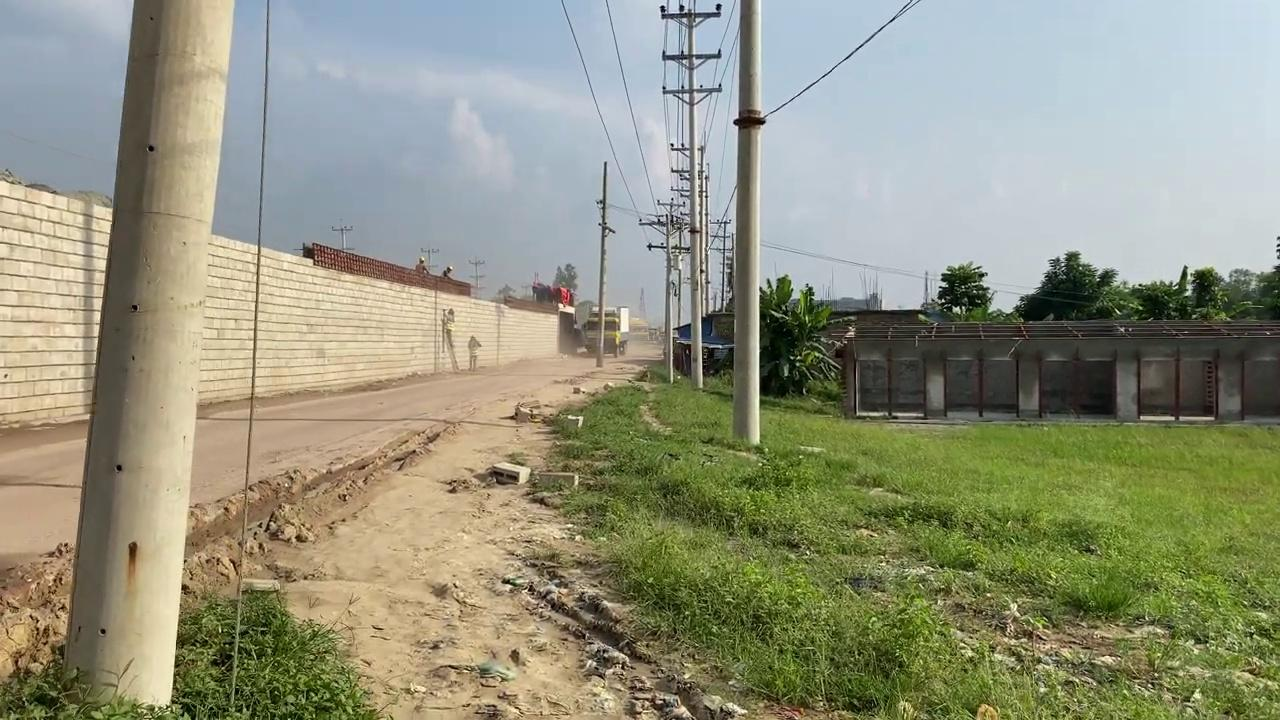Car: (581, 306, 629, 356)
Obstacle: (535, 470, 579, 490)
Pole: (61, 0, 235, 712), (731, 0, 763, 446), (595, 161, 607, 367)
Rickshaw: (233, 332, 740, 720)
Traffic-sign: (1017, 248, 1128, 320), (934, 260, 993, 321), (551, 263, 577, 292)
Tree: (530, 279, 630, 357), (531, 279, 576, 307)
Upstairs: (0, 170, 574, 429)
